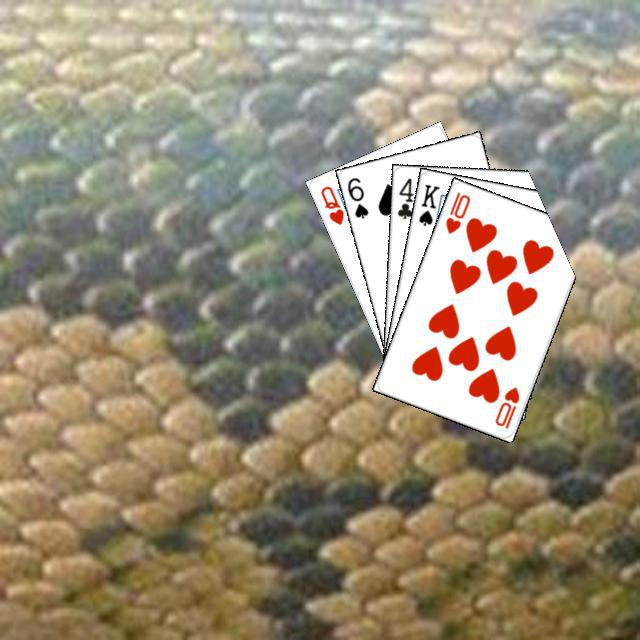10h: (440, 187, 472, 236), (490, 382, 521, 431)
4c: (392, 173, 415, 221)
6s: (342, 173, 370, 220)
Ks: (414, 179, 441, 228)
Qh: (316, 181, 346, 227)
